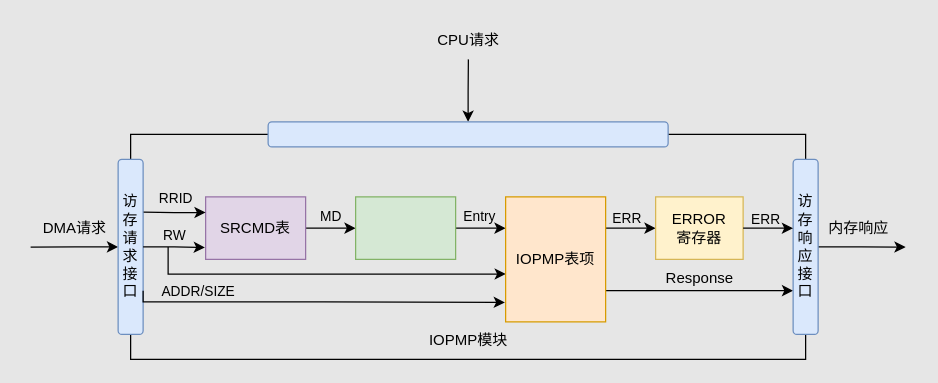
Some shapes in this 938 by 383 pixel diagram are drawn without their labels. Each missing label, with the centre of its shape:
MDCFG表: the point at 405,227
配置修改请求接口: the point at 467,134
